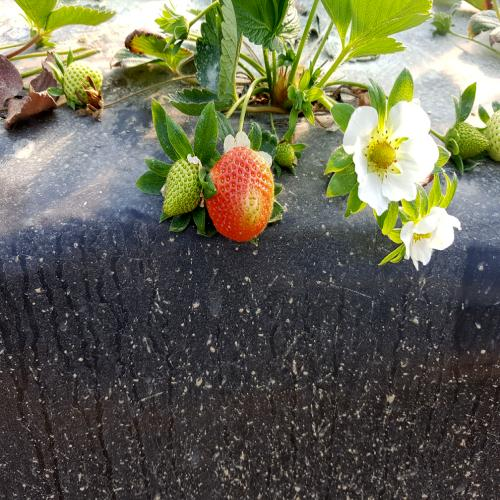ripe: (204, 135, 278, 261)
